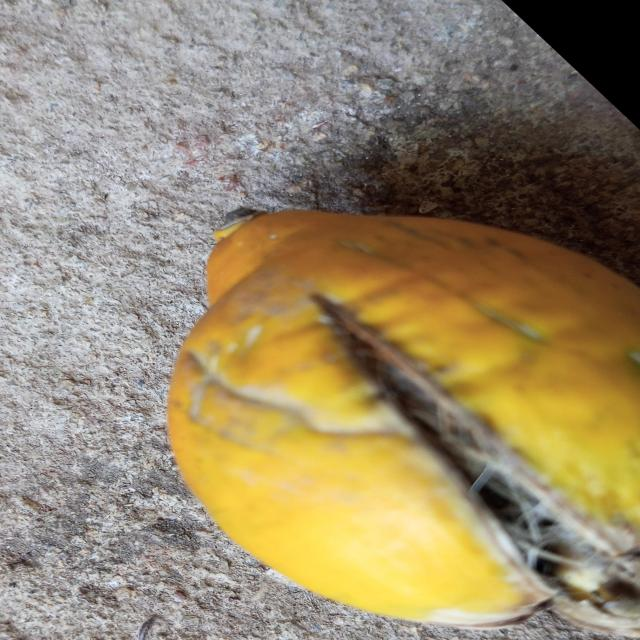damaged: (165, 211, 640, 640)
